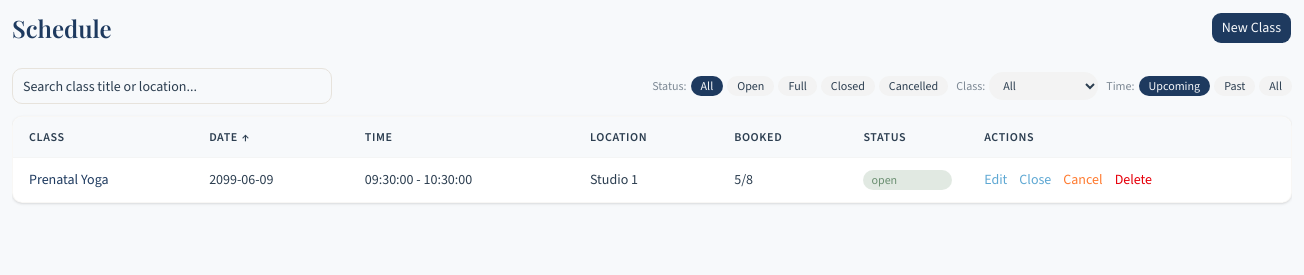
/admin/schedule › says why a schedule could not be deleted
Check: the cell "Prenatal Yoga" is shown, box [13,158,193,202]
Click the button "Delete": [1133, 180] box [1115,170,1152,190]
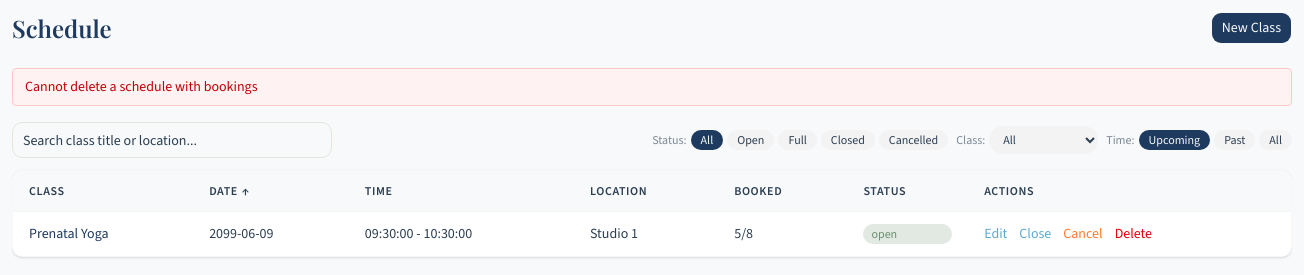
Check: the message reads "Cannot delete a schedule with bookings", box [25,77,258,96]
